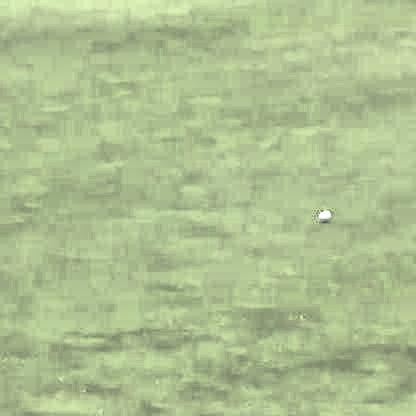golfball: (316, 207, 331, 222)
